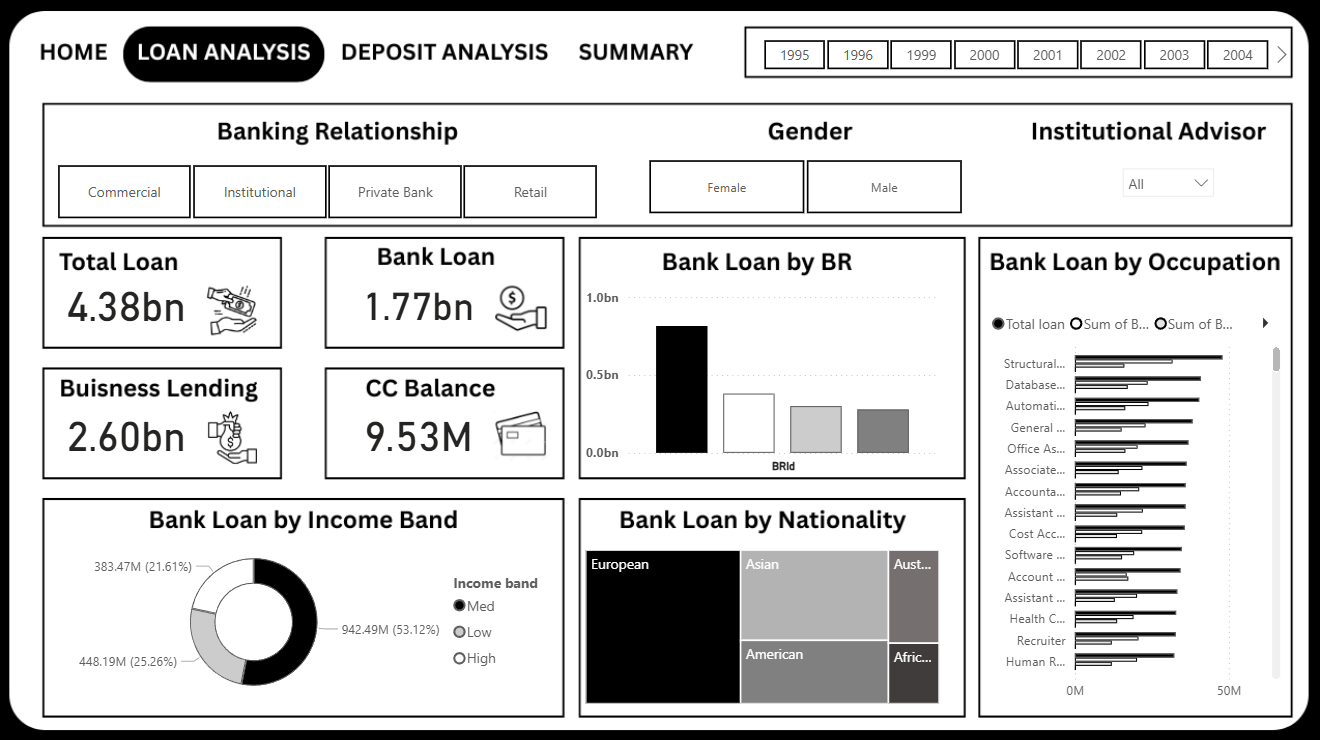

Layout of this report page (visuals, bound fields, positions):
{"tool":"powerbi","page":{"name":"Loan Analysis","canvas":[1280,720],"ordinal":1},"visuals":[{"type":"actionButton","box":[26.5,31.4,90.5,39.8],"z":0},{"type":"card","fields":{"Values":["Banking_Clients.Total loan"]},"box":[0,218.4,249.7,149.6],"z":1000},{"type":"card","fields":{"Values":["Sum(Banking_Clients.Credit Card Balance)"]},"box":[249.7,343.8,313.7,149.6],"z":2000},{"type":"card","fields":{"Values":["Sum(Banking_Clients.Business Lending)"]},"box":[0,343.8,249.7,149.6],"z":3000},{"type":"card","fields":{"Values":["Sum(Banking_Clients.Bank Loans)"]},"box":[249.7,218.4,313.7,149.6],"z":4000},{"type":"clusteredColumnChart","fields":{"Y":["Sum(Banking_Clients.Bank Loans)"],"Category":["Banking_Clients.BRId"]},"box":[563.4,273.9,349.9,188.2],"z":5000},{"type":"treemap","fields":{"Group":["Banking_Clients.Nationality"],"Values":["Sum(Banking_Clients.Bank Loans)"]},"box":[563.4,527.2,351.1,158],"z":6000},{"type":"clusteredBarChart","fields":{"Category":["Banking_Clients.Occupation"],"Y":["Banking_Clients.Total loan","Sum(Banking_Clients.Business Lending)","Sum(Banking_Clients.Bank Loans)","Sum(Banking_Clients.Credit Card Balance)"]},"box":[955.5,293.2,288.3,392.1],"z":7000},{"type":"donutChart","fields":{"Y":["Sum(Banking_Clients.Bank Loans)"],"Category":["Banking_Clients.Income band"]},"box":[50.7,517.6,494.6,167.7],"z":8000},{"type":"actionButton","box":[328.2,31.4,207.5,39.8],"z":9000},{"type":"slicer","fields":{"Values":["Banking_Clients.BRId"]},"box":[32.6,153.2,570.6,65.1],"z":10000},{"type":"slicer","fields":{"Values":["Banking_Clients.IAId"]},"box":[1076.1,153.2,108.6,120.6],"z":11000},{"type":"slicer","fields":{"Values":["Banking_Clients.GenderId"]},"box":[603.2,148.4,352.3,65.1],"z":12000},{"type":"slicer","fields":{"Values":["Banking_Clients.year of joining"]},"box":[714.2,32.6,536.9,42.2],"z":13000},{"type":"actionButton","box":[545.3,31.4,137.5,39.8],"z":13001}]}

Visuals, with their boxes in screenshot pixels (x1, y1, x2, y2), scaled from the page's 1280x720 canvas onto the 1320x740 screenshot:
actionButton: rect(27, 32, 121, 73)
card - Banking_Clients.Total loan: rect(0, 224, 258, 378)
card - Sum(Banking_Clients.Credit Card Balance): rect(258, 353, 581, 507)
card - Sum(Banking_Clients.Business Lending): rect(0, 353, 258, 507)
card - Sum(Banking_Clients.Bank Loans): rect(258, 224, 581, 378)
clusteredColumnChart - Sum(Banking_Clients.Bank Loans) x Banking_Clients.BRId: rect(581, 282, 942, 475)
treemap - Banking_Clients.Nationality x Sum(Banking_Clients.Bank Loans): rect(581, 542, 943, 704)
clusteredBarChart - Banking_Clients.Occupation x Banking_Clients.Total loan: rect(985, 301, 1283, 704)
donutChart - Sum(Banking_Clients.Bank Loans) x Banking_Clients.Income band: rect(52, 532, 562, 704)
actionButton: rect(338, 32, 552, 73)
slicer - Banking_Clients.BRId: rect(34, 157, 622, 224)
slicer - Banking_Clients.IAId: rect(1110, 157, 1222, 281)
slicer - Banking_Clients.GenderId: rect(622, 153, 985, 219)
slicer - Banking_Clients.year of joining: rect(737, 34, 1290, 77)
actionButton: rect(562, 32, 704, 73)
